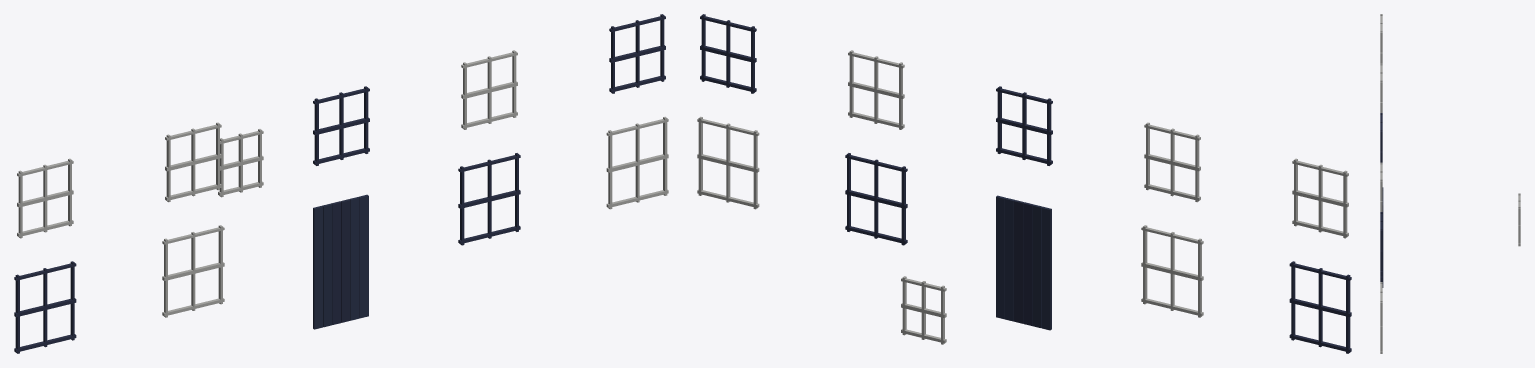
File: SM_Bld_082_Wood.glb
3 renders of one model, left to right at view 1: azimuth 30°, elevation 25°; view 2: azimuth 150°, elevation 25°; view 3: azimuth 270°, elevation 25°, orthographic. The views are drawn at different scales.
Parts seen in each view (by area): view 1: SM_Bld_082_Wood; view 2: SM_Bld_082_Wood; view 3: SM_Bld_082_Wood.
Part boxes in pixels (bbox=[...]): SM_Bld_082_Wood: bbox=[14, 14, 668, 353]; SM_Bld_082_Wood: bbox=[697, 14, 1351, 353]; SM_Bld_082_Wood: bbox=[1380, 14, 1520, 353].
Bounding box in the file's own units: 11.9 × 4 × 3.24.
